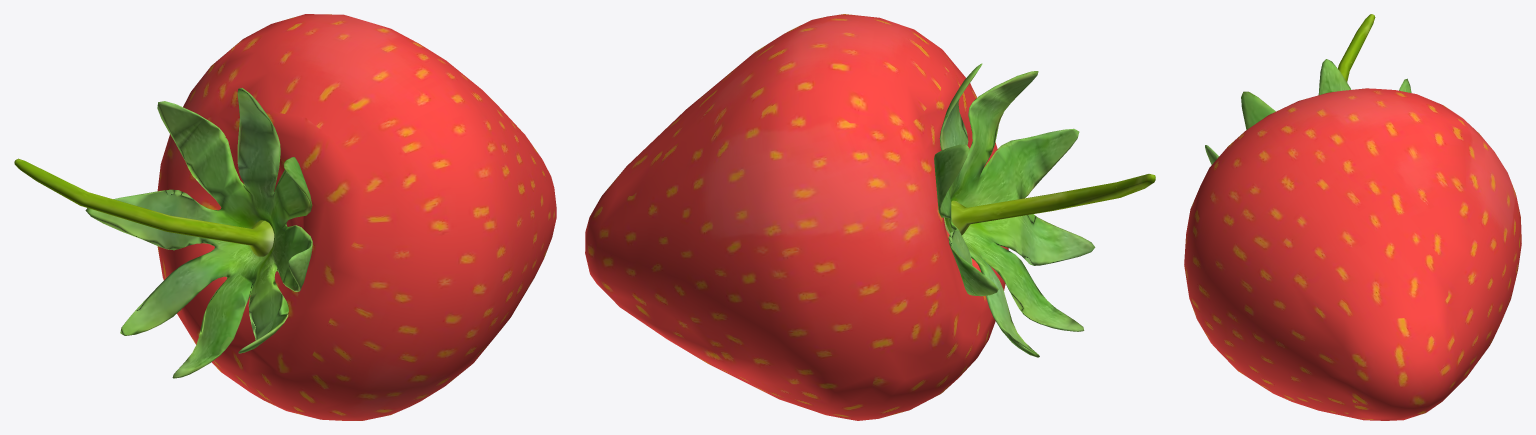
Rendered from candle_strawberry_full_v3.glb.
3 renders of one model, left to right at view 1: azimuth 30°, elevation 25°; view 2: azimuth 150°, elevation 25°; view 3: azimuth 270°, elevation 25°, orthographic. The views are drawn at different scales.
Visible parts, largest first — view 1: strawberry.086, strawberry.087; view 2: strawberry.086, strawberry.087; view 3: strawberry.086, strawberry.087.
Boxes of the visible parts, x1,y1,x2,y2 form: strawberry.086: (157, 14, 556, 420); strawberry.087: (14, 88, 312, 378); strawberry.086: (585, 14, 1008, 420); strawberry.087: (934, 63, 1155, 357); strawberry.086: (1184, 88, 1521, 420); strawberry.087: (1205, 14, 1411, 164).
Size of the model in its own units: 0.4565 by 0.2909 by 0.2906.
Materials: 2 (2 with a texture image).
